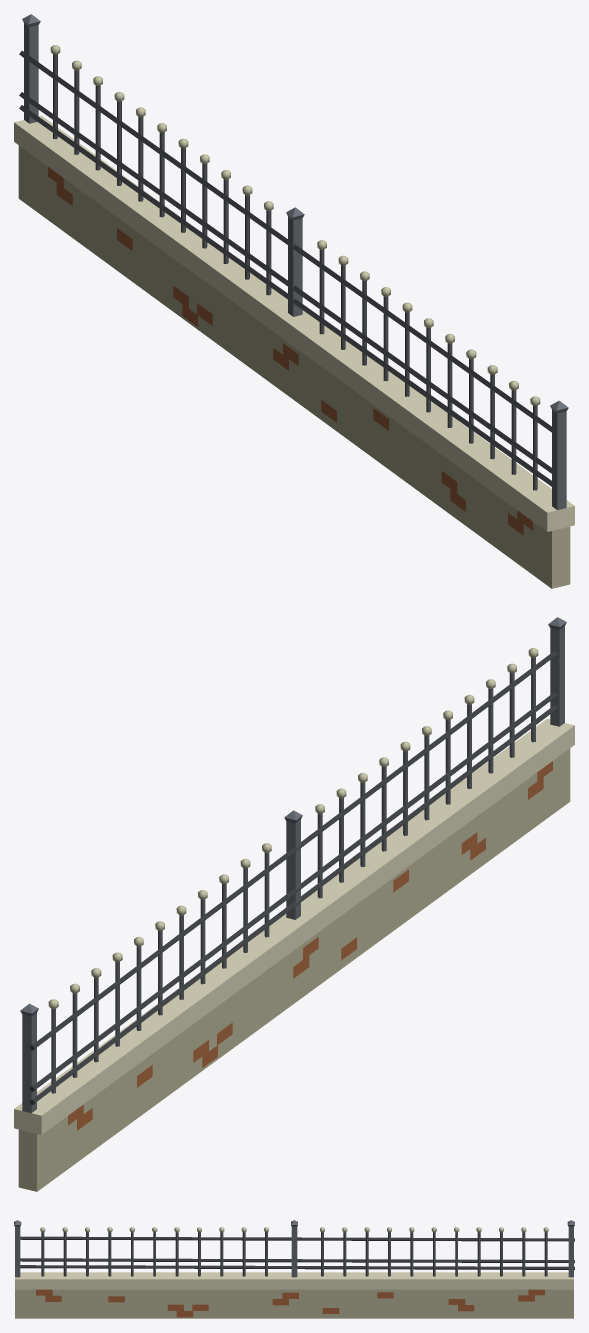
File: fence.FBX
3 views of the same model, one above another, from view 1: azimuth 30°, elevation 25°; view 2: azimuth 150°, elevation 25°; view 3: azimuth 270°, elevation 25° (orthographic). The views are drawn at different scales.
Parts seen in each view (by area): view 1: fence; view 2: fence; view 3: fence.
Part boxes in pixels (bbox=[...]): fence: bbox=[14, 14, 574, 588]; fence: bbox=[14, 617, 574, 1191]; fence: bbox=[14, 1220, 574, 1318].
Bounding box in the file's own units: 15 × 95.18 × 502.
